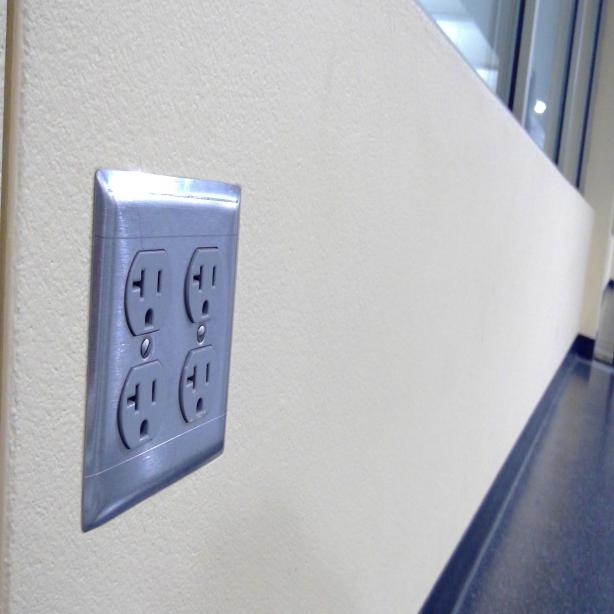typeb: (123, 252, 173, 338), (118, 369, 164, 441), (178, 350, 218, 415), (191, 245, 224, 323)
